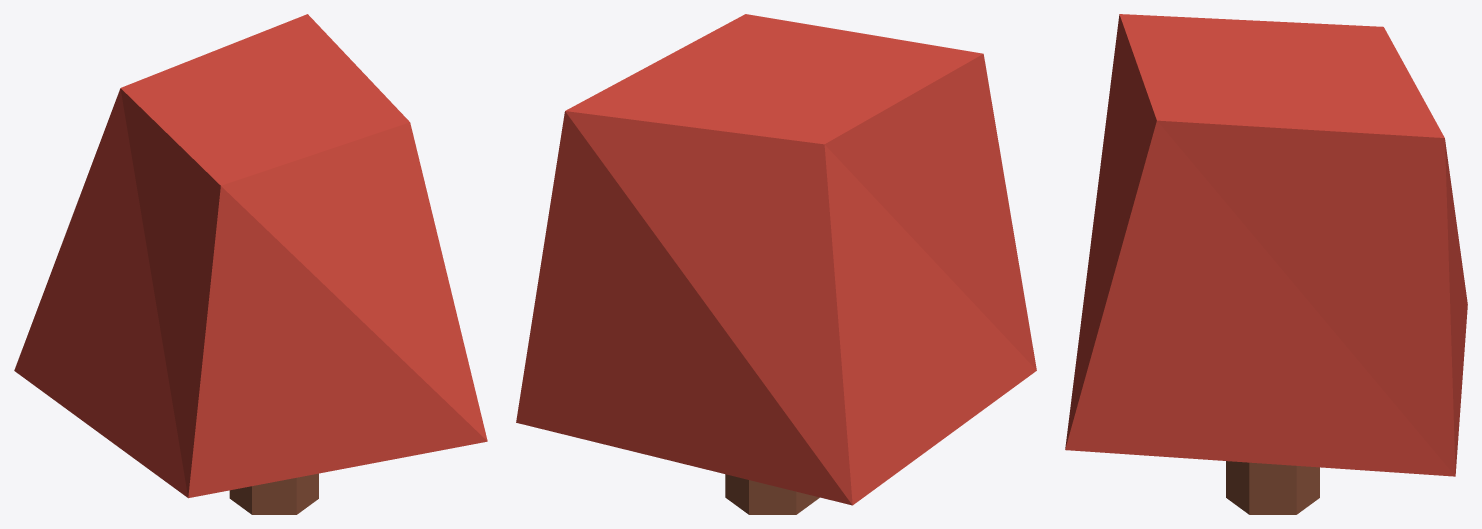
File: Bush_11_summer_red.fbx
3 views of the same model, side by side, from view 1: azimuth 30°, elevation 25°; view 2: azimuth 150°, elevation 25°; view 3: azimuth 270°, elevation 25° (orthographic). The views are drawn at different scales.
Parts seen in each view (by area): view 1: Bush_11_summer_red; view 2: Bush_11_summer_red; view 3: Bush_11_summer_red.
Boxes of the visible parts, left/top/right/bottom form: Bush_11_summer_red: left=14, top=14, right=487, bottom=514; Bush_11_summer_red: left=516, top=14, right=1036, bottom=514; Bush_11_summer_red: left=1065, top=14, right=1467, bottom=514.
Bounding box in the file's own units: 50.88 × 59.59 × 51.95.
